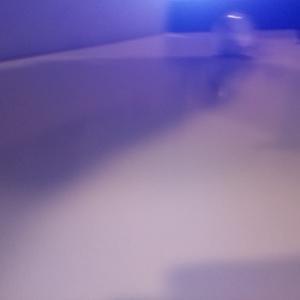alive_ball: (210, 10, 255, 56)
